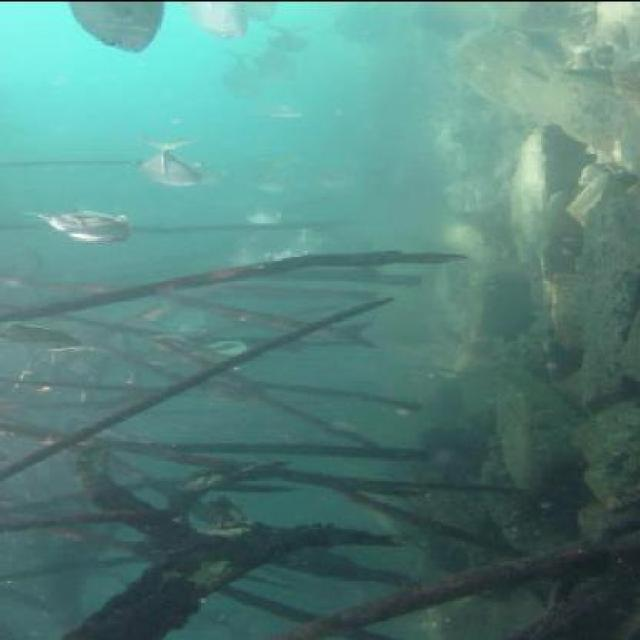Caranx_sexfasciatus_juvenile: (125, 123, 217, 191), (60, 0, 177, 52), (22, 202, 138, 249), (0, 314, 88, 357), (139, 302, 224, 344), (218, 47, 272, 104), (178, 0, 248, 40), (237, 156, 300, 198), (190, 332, 275, 362), (260, 102, 332, 136), (259, 16, 324, 52), (308, 158, 366, 196), (246, 44, 300, 84), (270, 230, 336, 262), (242, 200, 296, 231)
